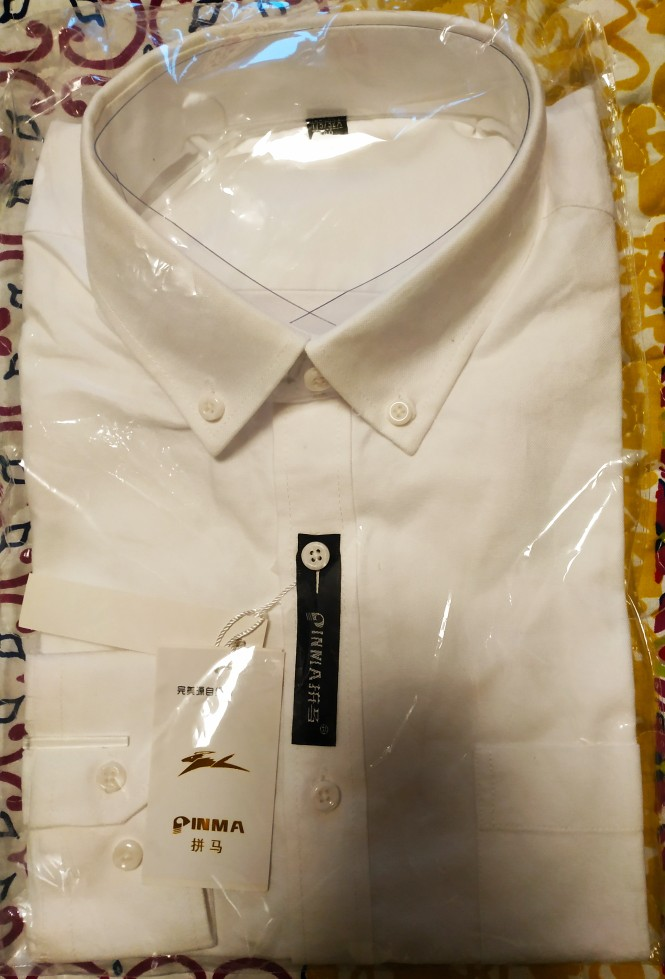shirts: (28, 11, 647, 952)
